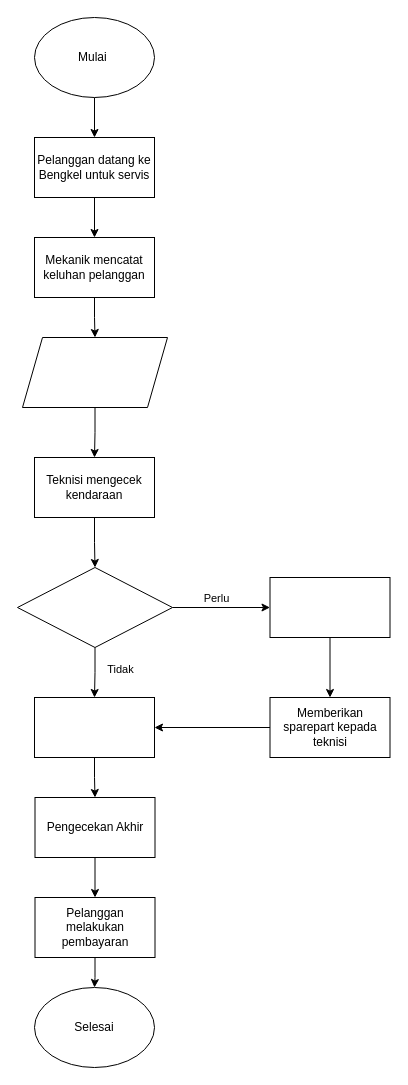
Some shapes in this 408 by 1085 pixel diagram are drawn without their labels. Here are the shapes that lost their labels. From the top down, the centre of each, then its label:
(95,372): Data kendaraan dimasukan ke dalam sistem
(94,607): Memerlukan sparepart
(329,607): Mengajukan permintaan ke gudang
(94,727): Teknisi melakukan proses perbaikan maupun perawatan
